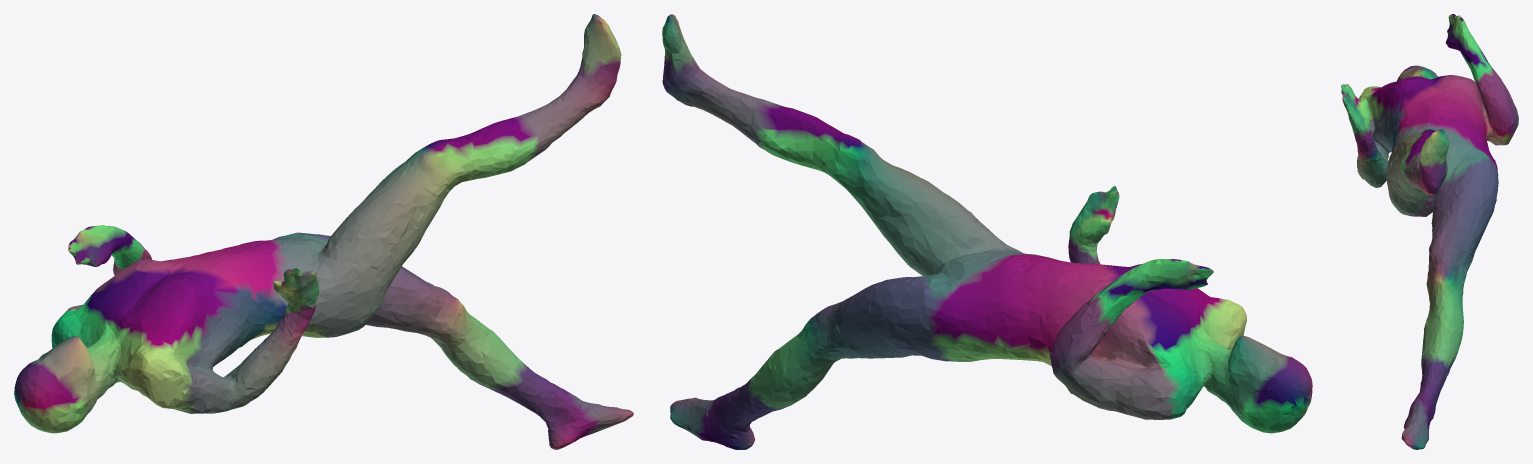
Rendered from man-5.off.obj.
3 renders of one model, left to right at view 1: azimuth 30°, elevation 25°; view 2: azimuth 150°, elevation 25°; view 3: azimuth 270°, elevation 25°, orthographic. The views are drawn at different scales.
Bounding box in the file's own units: 1.44 × 0.9256 × 0.457.
